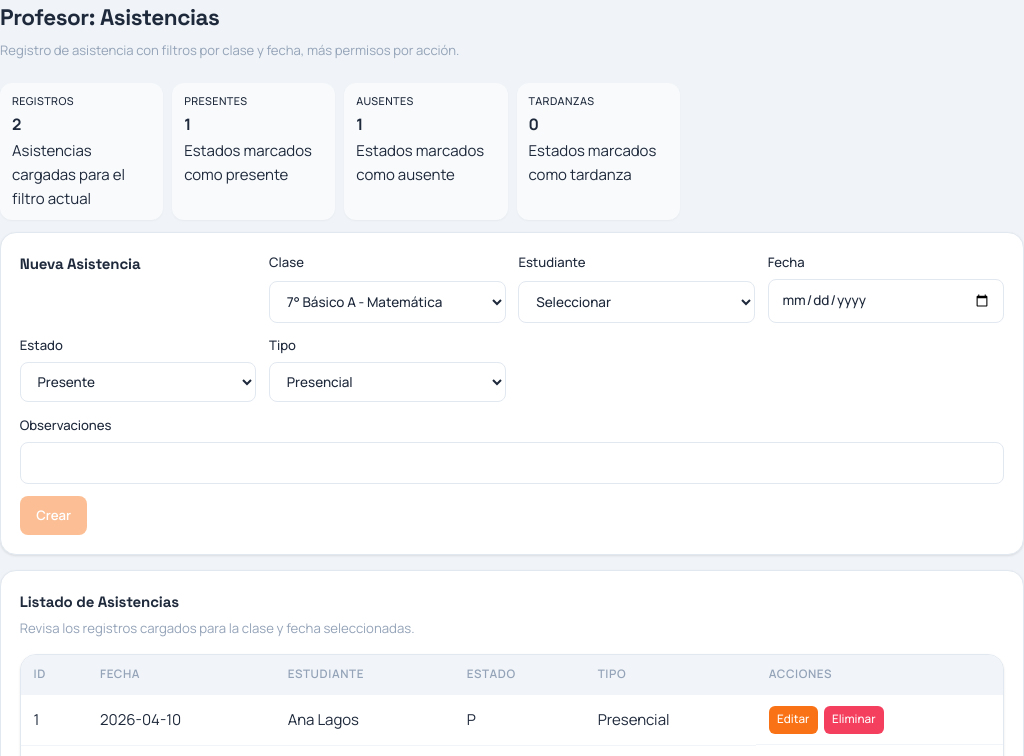
Test: TeacherAttendancePage › renders summaries and reloads attendance when class changes
The image size is (1024, 756).
expect the heading "Profesor: Asistencias" is shown: met, box [0,3,219,32]
expect the heading "Listado de Asistencias" is shown: met, box [20,592,179,611]
Step 1. Select "7° Básico B - Lenguaje" in the dropdown labelled "Clase" → (387, 302), box [269,281,506,323]
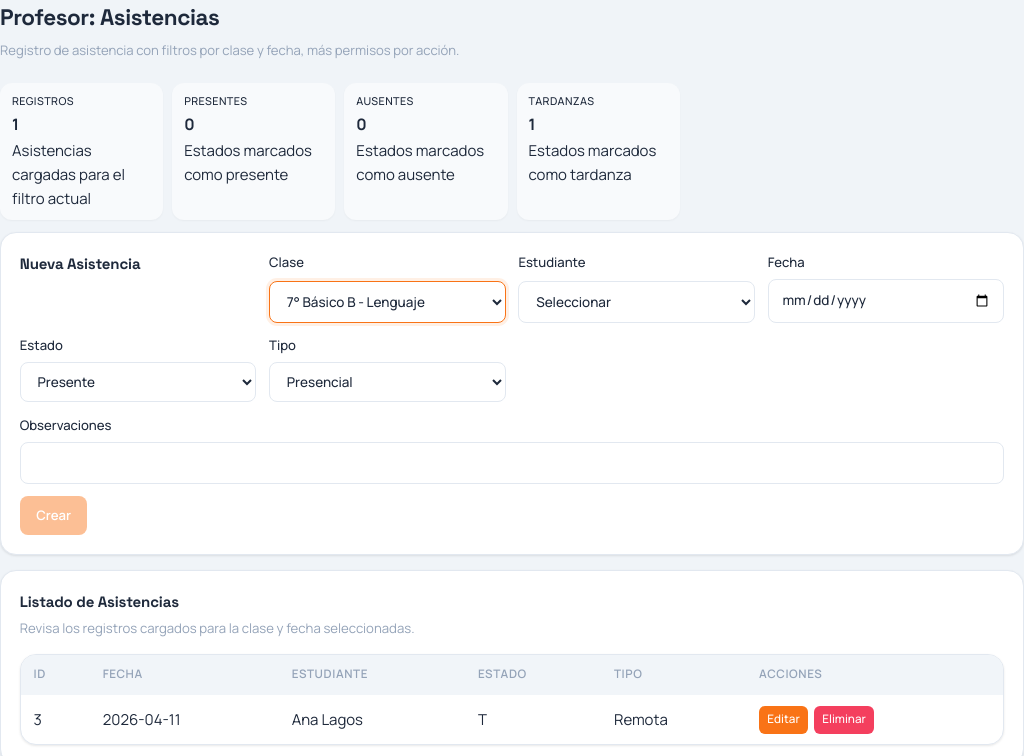
expect the text "Tardanzas" is shown: met, box [528,93,594,108]
expect the text "3" is shown: met, box [21,695,90,744]
